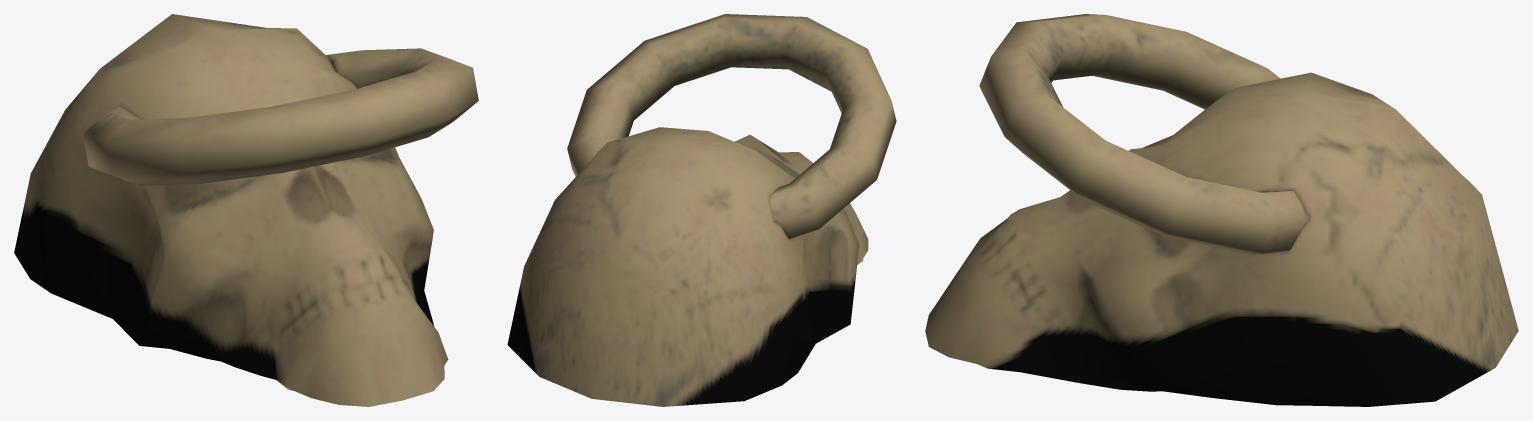
Rendered from SM_Prop_Gold_Head.fbx.
3 renders of one model, left to right at view 1: azimuth 30°, elevation 25°; view 2: azimuth 150°, elevation 25°; view 3: azimuth 270°, elevation 25°, orthographic. The views are drawn at different scales.
Parts seen in each view (by area): view 1: SM_Prop_Gold_Head_LOD0; view 2: SM_Prop_Gold_Head_LOD0; view 3: SM_Prop_Gold_Head_LOD0.
Part boxes in pixels (x1,y1,x2,y2): SM_Prop_Gold_Head_LOD0: (14,14,478,406); SM_Prop_Gold_Head_LOD0: (507,14,896,406); SM_Prop_Gold_Head_LOD0: (925,14,1518,406).
Size of the model in its own units: 42.77 by 62.89 by 32.73.
Materials: 1 (1 with a texture image).
